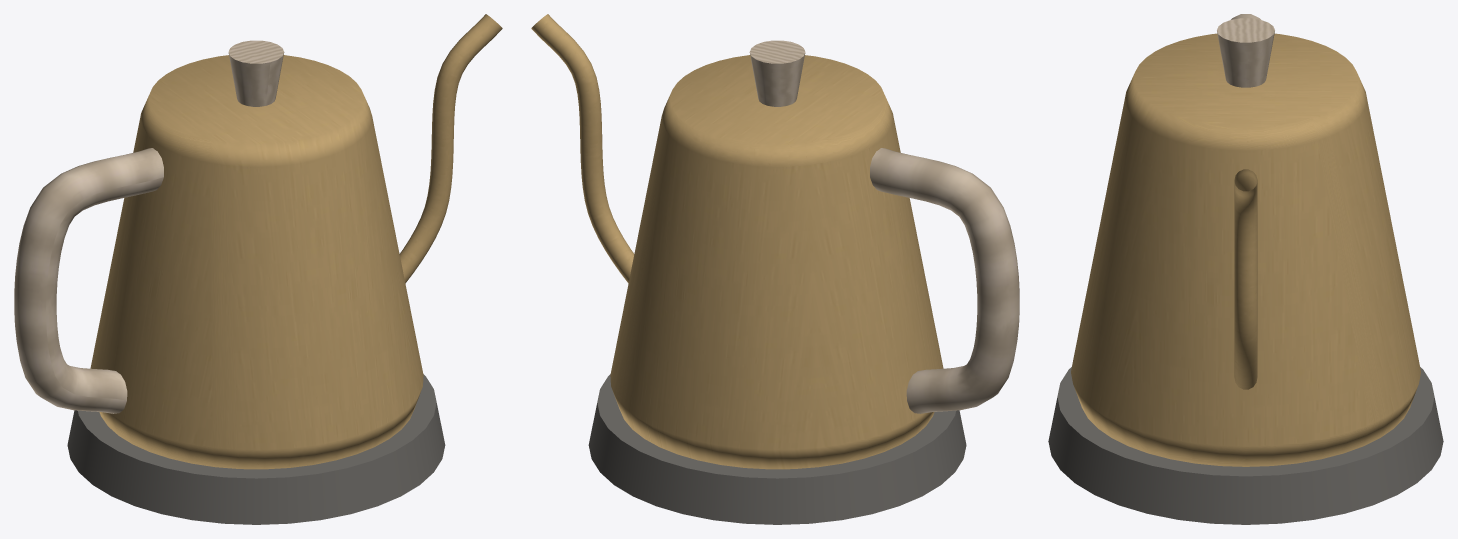
Rendered from kowhai-hero-kit-06.glb.
3 renders of one model, left to right at view 1: azimuth 30°, elevation 25°; view 2: azimuth 150°, elevation 25°; view 3: azimuth 270°, elevation 25°, orthographic. The views are drawn at different scales.
Visible parts, largest first — view 1: Kettle_PVDStainlessVessel, Kettle_HeatedPowerBase, Kettle_OtagoAshHandle, Kettle_GooseneckSpout, SubPart; view 2: Kettle_PVDStainlessVessel, Kettle_HeatedPowerBase, Kettle_OtagoAshHandle, Kettle_GooseneckSpout, SubPart; view 3: Kettle_PVDStainlessVessel, Kettle_HeatedPowerBase, Kettle_GooseneckSpout, SubPart.
Part boxes in pixels (x1,y1,x2,y2): Kettle_PVDStainlessVessel: (90,55,423,469); Kettle_HeatedPowerBase: (67,374,445,524); Kettle_OtagoAshHandle: (14,148,163,413); Kettle_GooseneckSpout: (399,14,502,283); SubPart: (228,40,284,106); Kettle_PVDStainlessVessel: (610,55,943,469); Kettle_HeatedPowerBase: (588,374,966,524); Kettle_OtagoAshHandle: (870,148,1019,413); Kettle_GooseneckSpout: (531,14,634,283); SubPart: (749,40,805,106); Kettle_PVDStainlessVessel: (1071,33,1420,466); Kettle_HeatedPowerBase: (1048,367,1443,524); Kettle_GooseneckSpout: (1234,169,1257,389); SubPart: (1217,18,1274,87).
Size of the model in its own units: 0.2599 by 0.202 by 0.176.
Materials: 3 (2 with a texture image).
